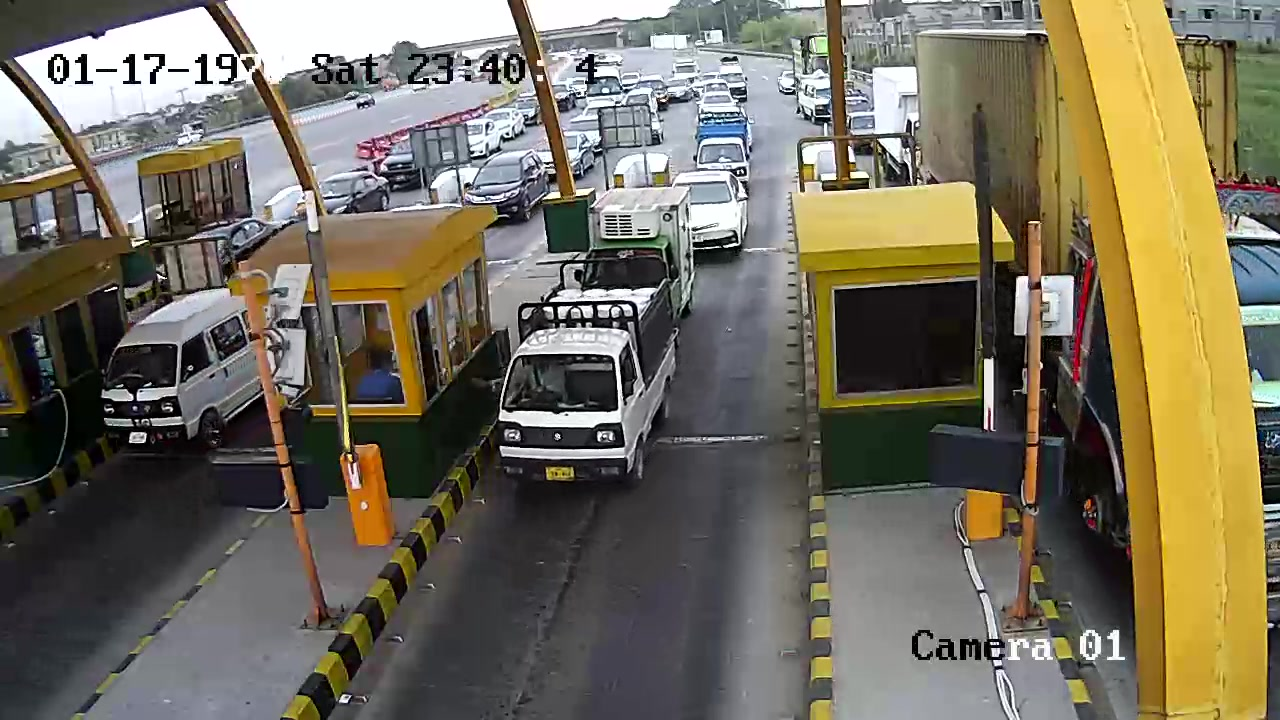F1: (491, 249, 678, 507)
